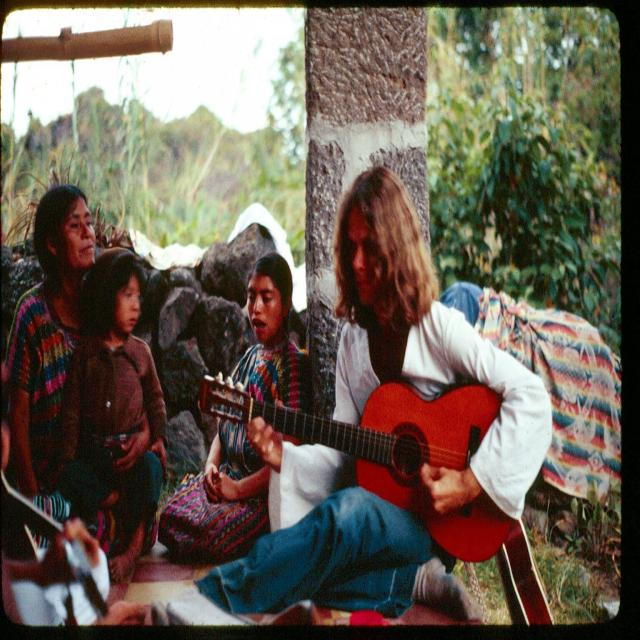guitar: (196, 367, 525, 565), (0, 470, 112, 618), (498, 512, 560, 640)
